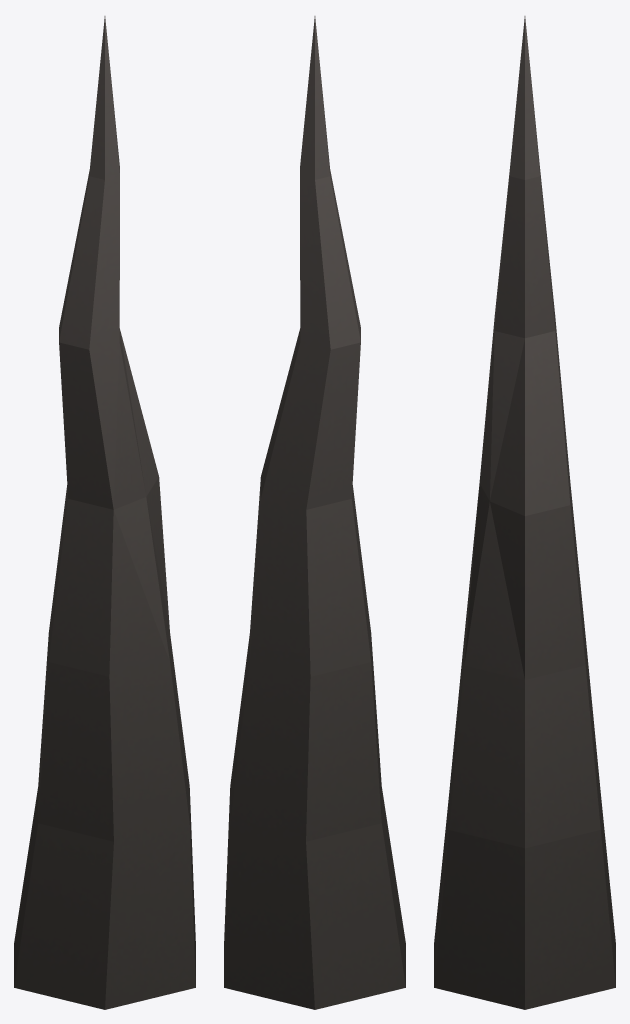
Rendered from Stal_10C.fbx.
3 views of the same model, side by side, from view 1: azimuth 30°, elevation 25°; view 2: azimuth 150°, elevation 25°; view 3: azimuth 270°, elevation 25° (orthographic).
Parts seen in each view (by area): view 1: pCone22; view 2: pCone22; view 3: pCone22.
Part boxes in pixels (left/top/right/bottom): pCone22: left=14, top=16, right=195, bottom=1009; pCone22: left=224, top=16, right=405, bottom=1009; pCone22: left=434, top=16, right=615, bottom=1009.
Bounding box in the file's own units: 400 × 2000 × 346.
1 material, 1 textured.
